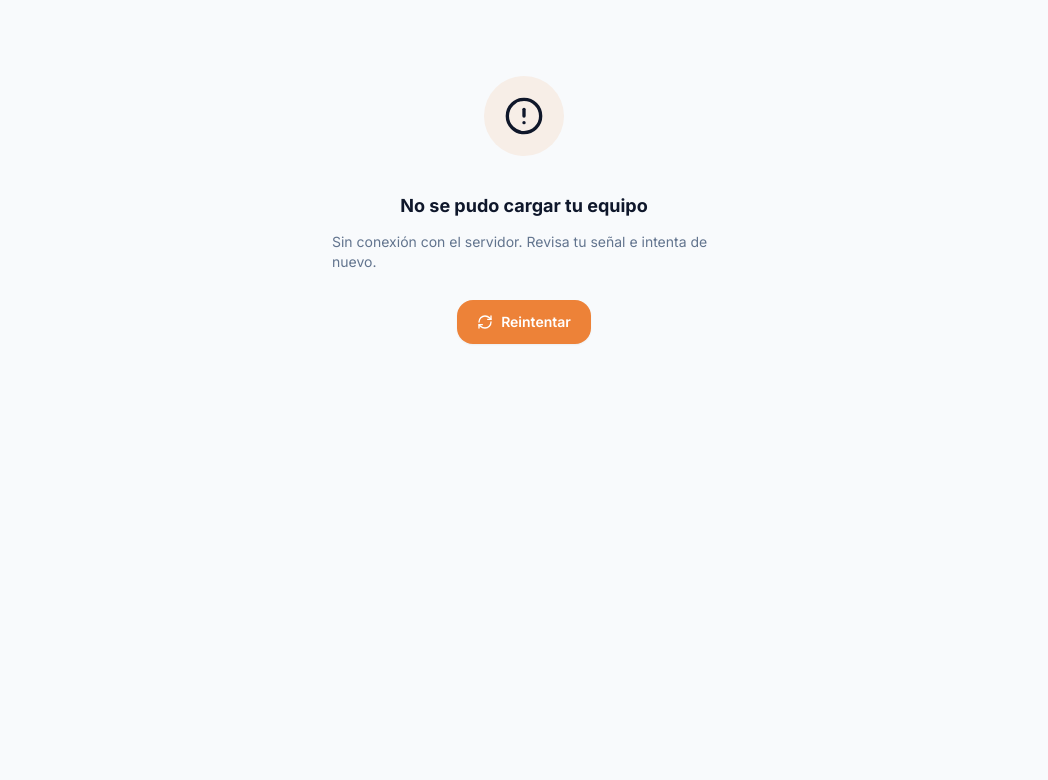
Test: EquipoAsistencia › sin red: error con Reintentar (no se queda cargando) y se recupera
Expected: the text "Sin conexión con el servidor. Revisa tu señal e intenta de nuevo." is shown, left=332, top=232, right=716, bottom=272
What coordinates should you click on to do the following:
click the button "Reintentar"
I would click on:
 (524, 322)
Its box is left=457, top=300, right=591, bottom=344.
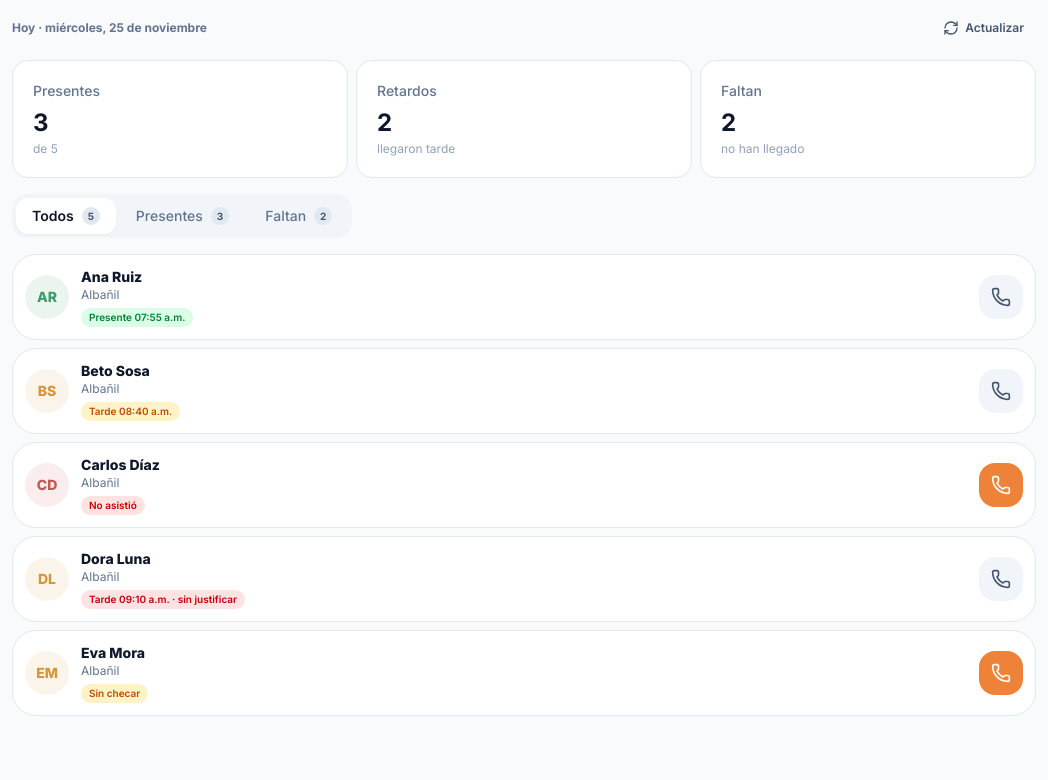
Result: the text "Ana Ruiz" is shown at left=81, top=268, right=142, bottom=285
